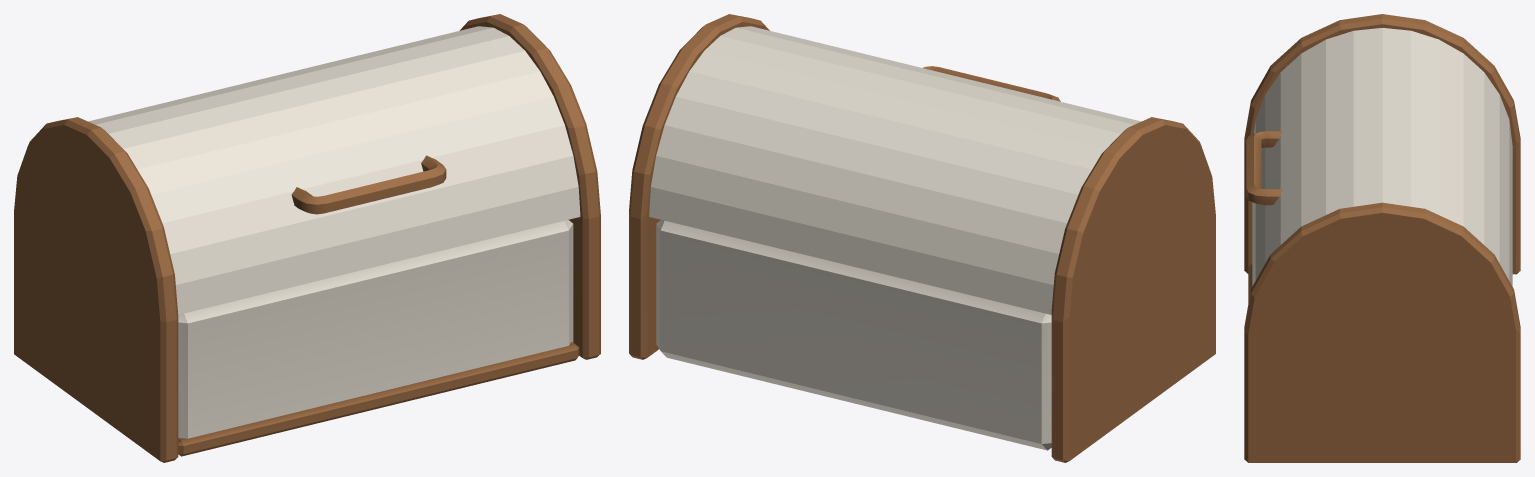
File: breadBin.glb
3 views of the same model, side by side, from view 1: azimuth 30°, elevation 25°; view 2: azimuth 150°, elevation 25°; view 3: azimuth 270°, elevation 25° (orthographic). The views are drawn at different scales.
Parts seen in each view (by area): view 1: bread_bin, roll_top; view 2: bread_bin, roll_top; view 3: bread_bin, roll_top.
Boxes of the visible parts, x1=… form: bread_bin: x1=14, y1=14, x2=600, y2=462; roll_top: x1=88, y1=26, x2=580, y2=314; bread_bin: x1=629, y1=14, x2=1215, y2=462; roll_top: x1=649, y1=26, x2=1141, y2=314; bread_bin: x1=1244, y1=14, x2=1520, y2=462; roll_top: x1=1246, y1=28, x2=1512, y2=286.
Size of the model in its own units: 0.34 by 0.206 by 0.202.
